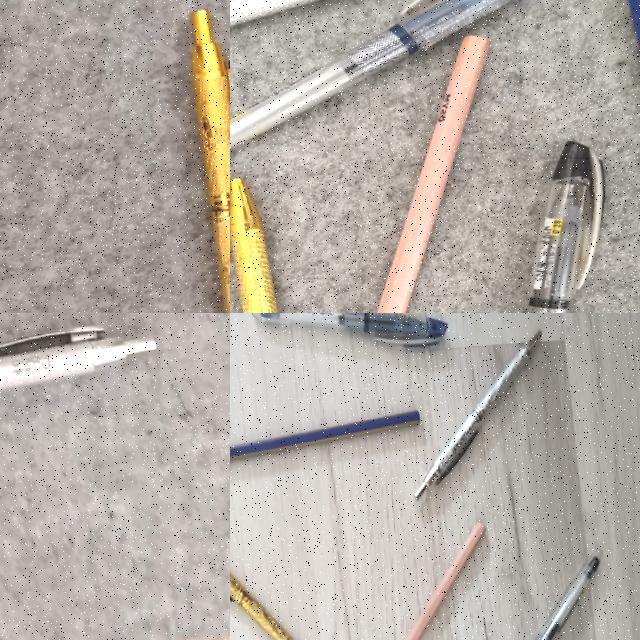pen: (230, 0, 509, 148), (467, 141, 633, 313), (467, 553, 616, 640), (251, 313, 451, 358)
pencil: (286, 40, 529, 313), (230, 408, 424, 468), (405, 523, 484, 640)
signature pen: (408, 333, 555, 498), (230, 0, 596, 40), (230, 170, 328, 313), (230, 505, 328, 640), (192, 10, 230, 313), (0, 326, 155, 391)
